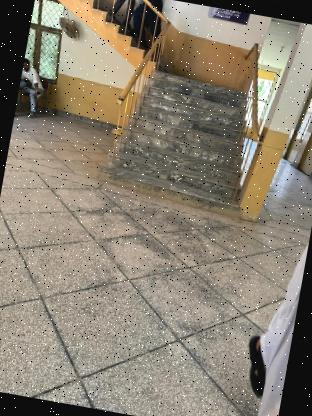stair: (110, 56, 260, 211)
